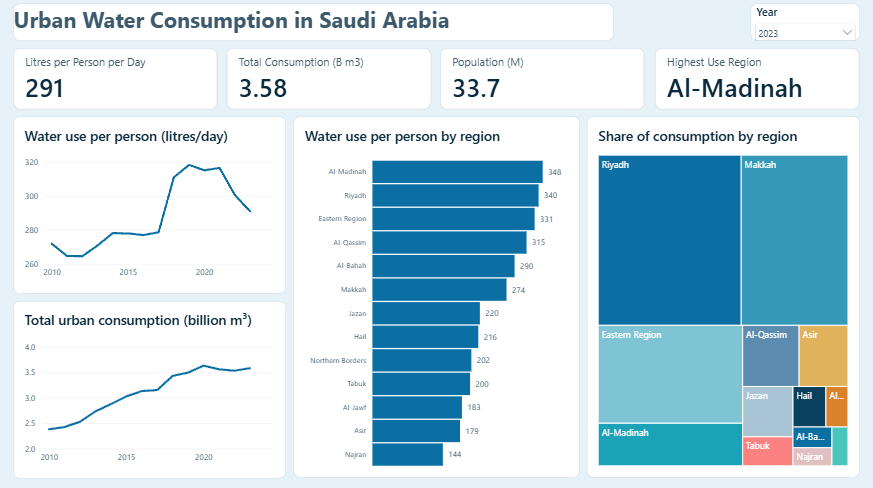

The page's visual inventory and layout, read from the dashboard file:
{"tool":"powerbi","page":{"name":"Page 1","canvas":[1280,720],"ordinal":0},"visuals":[{"type":"textbox","box":[20,10,880,55],"z":0},{"type":"slicer","fields":{"Values":["water_per_capita_by_region.year"]},"box":[1100,10,160,55],"z":1000},{"type":"cardVisual","fields":{"Data":["water_per_capita_by_region.Litres per Person per Day"]},"box":[20,75,300,90],"z":2000},{"type":"cardVisual","fields":{"Data":["water_per_capita_by_region.Total Consumption (B m3)"]},"box":[333,75,300,90],"z":3000},{"type":"cardVisual","fields":{"Data":["water_per_capita_by_region.Population (M)"]},"box":[646,75,300,90],"z":4000},{"type":"cardVisual","fields":{"Data":["water_per_capita_by_region.Highest Use Region"]},"box":[960,75,300,90],"z":5000},{"type":"lineChart","title":"Water use per person (litres/day)","fields":{"Category":["water_per_capita_by_region.year"],"Y":["water_per_capita_by_region.Litres per Person per Day"]},"box":[20,175,400,260],"z":6000},{"type":"clusteredBarChart","fields":{"Category":["water_per_capita_by_region.region"],"Y":["water_per_capita_by_region.Selected KPI"]},"box":[430,175,420,530],"z":7000},{"type":"lineChart","title":"Total urban consumption (billion m³)","fields":{"Category":["water_per_capita_by_region.year"],"Y":["water_per_capita_by_region.Total Consumption (B m3)"]},"box":[20,445,400,260],"z":8000},{"type":"treemap","title":"Share of consumption by region","fields":{"Group":["water_per_capita_by_region.region"],"Values":["water_per_capita_by_region.Total Consumption (B m3)"]},"box":[860,175,400,530],"z":9000},{"type":"slicer","fields":{"Values":["KPI.KPI  Name"]},"box":[900.2,9.7,189.6,54.9],"z":10000}]}

Visuals, with their boxes in screenshot pixels (x1, y1, x2, y2), scaled from the page's 1280x720 canvas onto the 873x488 screenshot:
textbox: region(14, 7, 614, 44)
slicer - water_per_capita_by_region.year: region(750, 7, 859, 44)
cardVisual - water_per_capita_by_region.Litres per Person per Day: region(14, 51, 218, 112)
cardVisual - water_per_capita_by_region.Total Consumption (B m3): region(227, 51, 432, 112)
cardVisual - water_per_capita_by_region.Population (M): region(441, 51, 645, 112)
cardVisual - water_per_capita_by_region.Highest Use Region: region(655, 51, 859, 112)
"Water use per person (litres/day)" lineChart: region(14, 119, 286, 295)
clusteredBarChart - water_per_capita_by_region.region x water_per_capita_by_region.Selected KPI: region(293, 119, 580, 478)
"Total urban consumption (billion m³)" lineChart: region(14, 302, 286, 478)
"Share of consumption by region" treemap: region(587, 119, 859, 478)
slicer - KPI.KPI  Name: region(614, 7, 743, 44)
